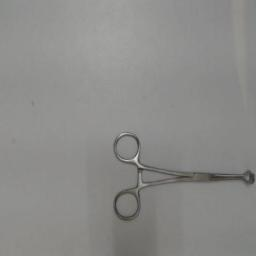Babcock Tissue Forceps: (109, 129, 255, 225)
